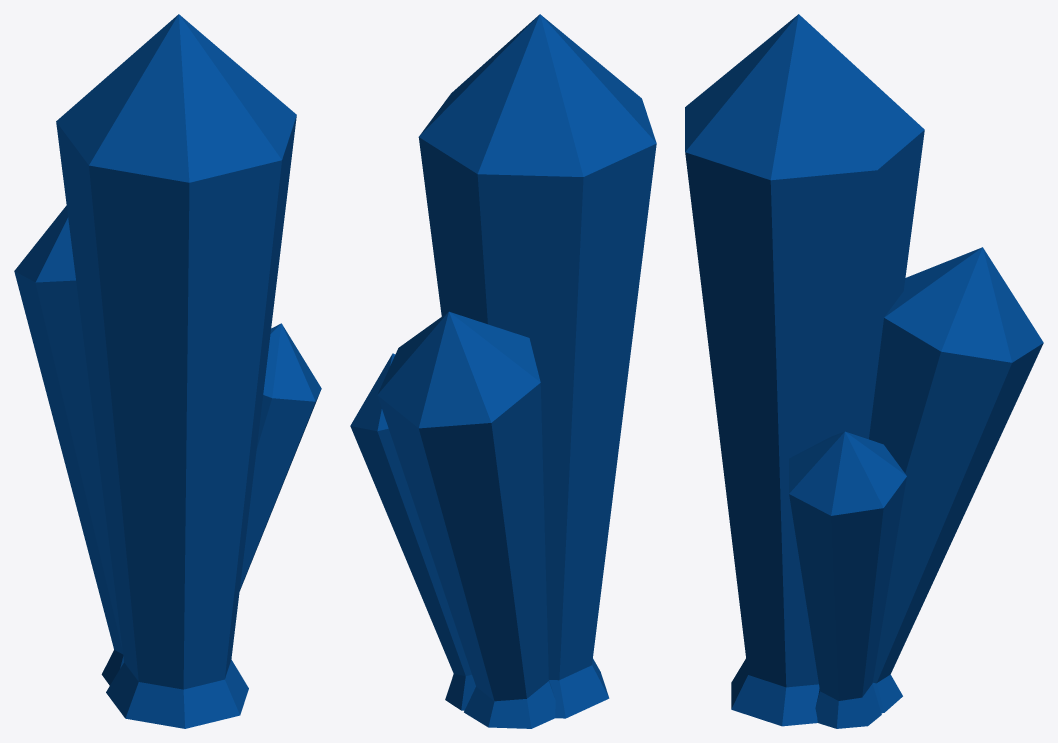
File: crystal_triple_blue_type1.fbx
3 views of the same model, side by side, from view 1: azimuth 30°, elevation 25°; view 2: azimuth 150°, elevation 25°; view 3: azimuth 270°, elevation 25° (orthographic).
Visible parts, largest first — view 1: crystal_triple_blue_type1.001; view 2: crystal_triple_blue_type1.001; view 3: crystal_triple_blue_type1.001.
Boxes of the visible parts, bbox=[...] form: crystal_triple_blue_type1.001: bbox=[14, 14, 321, 728]; crystal_triple_blue_type1.001: bbox=[350, 14, 656, 728]; crystal_triple_blue_type1.001: bbox=[685, 14, 1043, 728].
Bounding box in the file's own units: 63.34 × 157 × 74.92.
